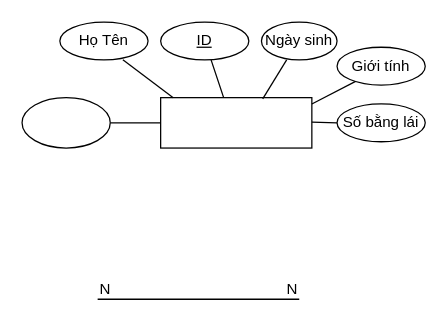
Some shapes in this 447 by 323 pixel diagram are drawn without their labels. Each missing label, with the centre of its shape:
"CCCD" belongs at [65,122].
"Tài xế" belongs at [235,122].
